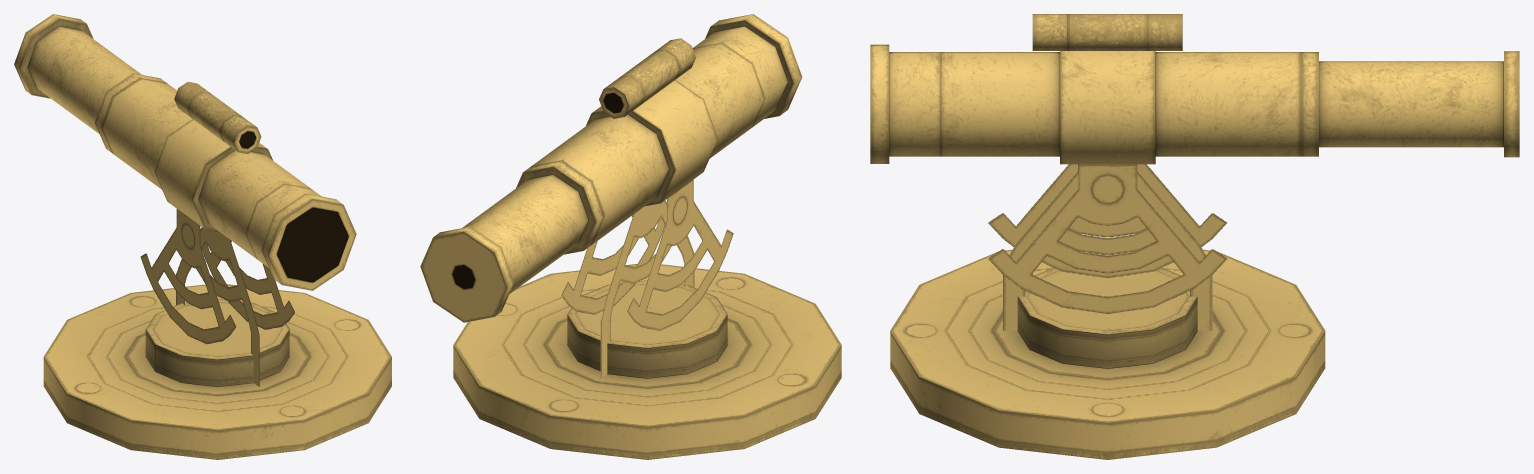
File: PropAstro04.fbx
The picture shows the model from 3 angles, left to right: view 1: azimuth 30°, elevation 25°; view 2: azimuth 150°, elevation 25°; view 3: azimuth 270°, elevation 25°; orthographic projection. The views are drawn at different scales.
Parts seen in each view (by area): view 1: PropAstro04; view 2: PropAstro04; view 3: PropAstro04.
Part boxes in pixels (x1,y1,x2,y2): PropAstro04: (14,14,391,459); PropAstro04: (420,14,841,459); PropAstro04: (870,14,1519,459).
Size of the model in its own units: 2.33 by 2.09 by 3.48.
Materials: 1 (1 with a texture image).
